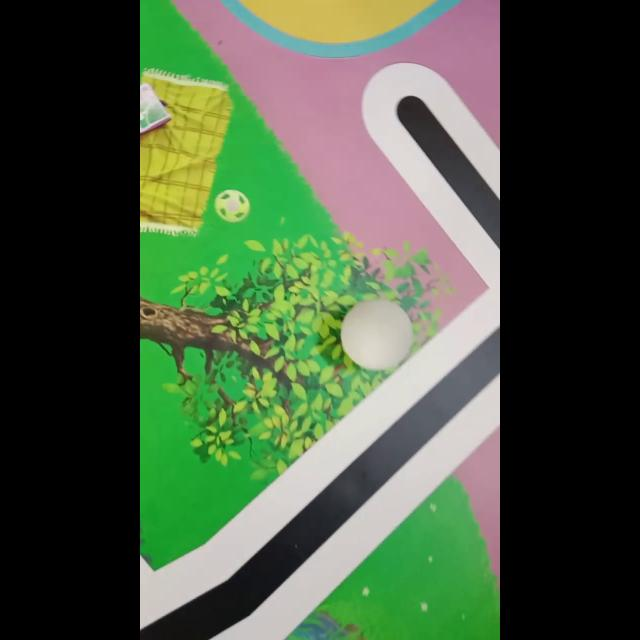white ball: (338, 297, 414, 371)
